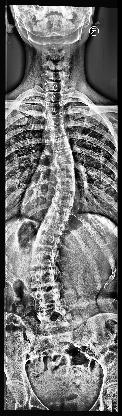Vertebrae: (34, 307, 70, 327), (29, 290, 62, 310), (30, 270, 61, 288), (44, 204, 72, 222), (31, 250, 59, 268), (37, 218, 67, 234), (32, 234, 60, 250), (53, 192, 78, 206), (54, 148, 75, 164), (48, 124, 68, 140), (50, 137, 70, 151), (55, 164, 77, 176), (56, 178, 78, 190), (45, 101, 63, 115), (44, 115, 66, 125)
